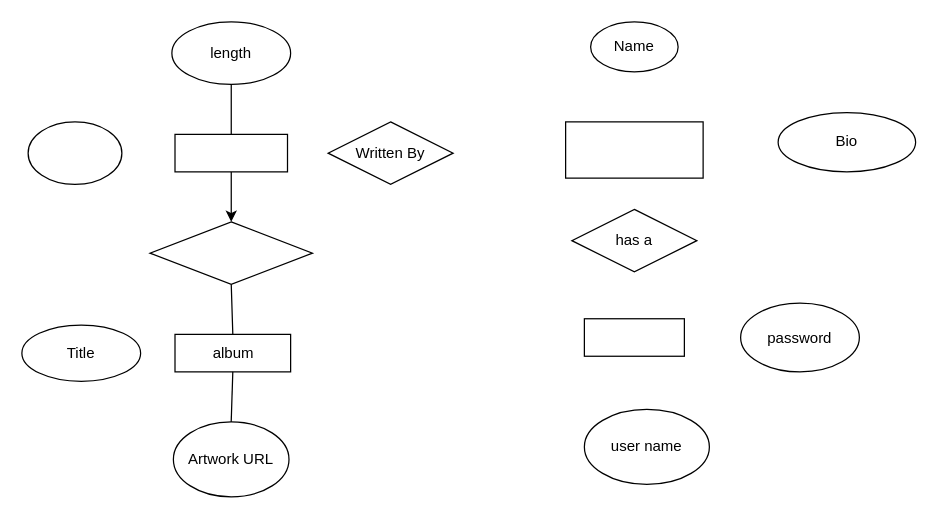
Image size: 938x519. Some labels were removed from this diagram. Each missing label, with the box of its shape:
Artist: (564, 121, 703, 178)
belongs to: (149, 221, 312, 284)
song: (174, 133, 288, 172)
Titile: (27, 121, 122, 184)
user account: (583, 318, 684, 356)
